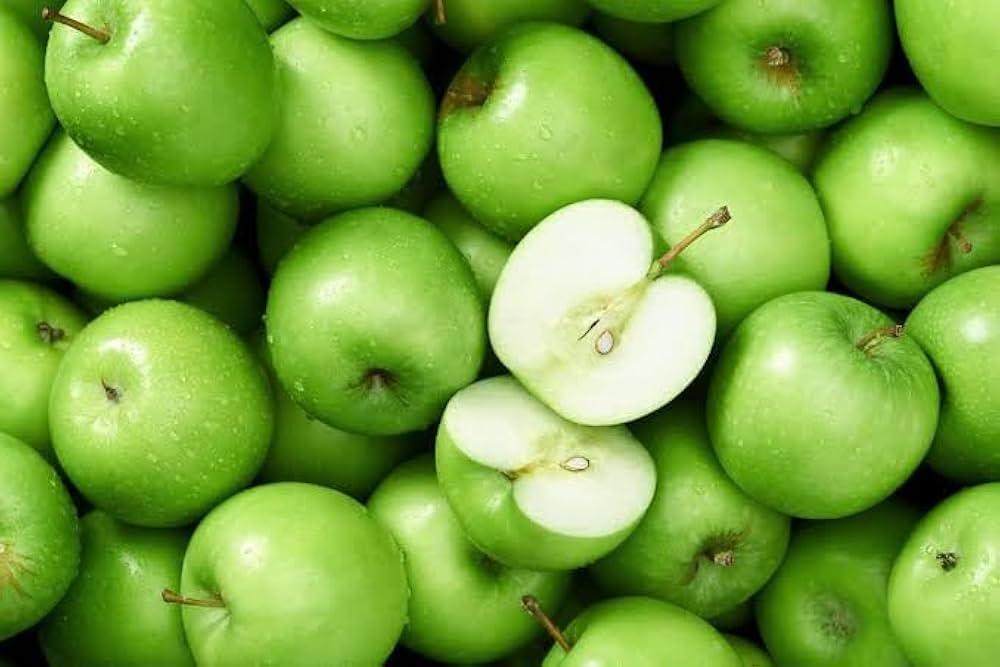non-mango: (1, 0, 997, 665)
